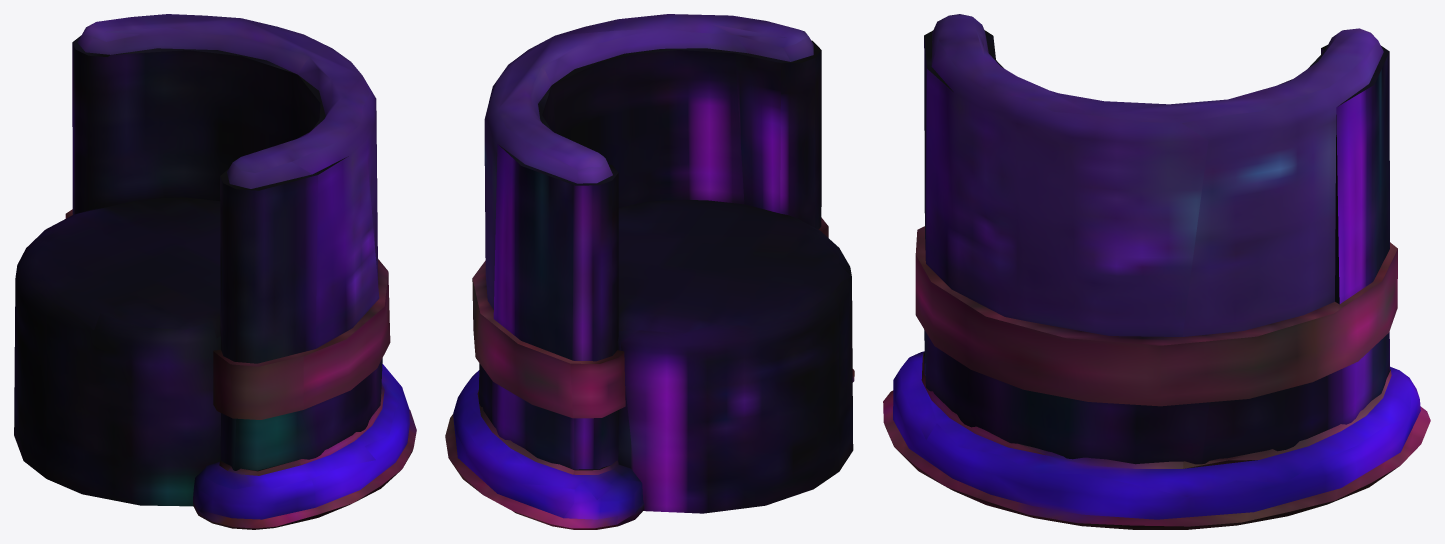
File: chair.glb
3 renders of one model, left to right at view 1: azimuth 30°, elevation 25°; view 2: azimuth 150°, elevation 25°; view 3: azimuth 270°, elevation 25°, orthographic. The views are drawn at different scales.
Parts seen in each view (by area): view 1: chairs and table.001; view 2: chairs and table.001; view 3: chairs and table.001.
Boxes of the visible parts, x1,y1,x2,y2 form: chairs and table.001: (14, 14, 416, 529); chairs and table.001: (445, 14, 854, 529); chairs and table.001: (883, 14, 1430, 529).
Bounding box in the file's own units: 0.8013 × 0.765 × 0.967.
Materials: 1 (1 with a texture image).
